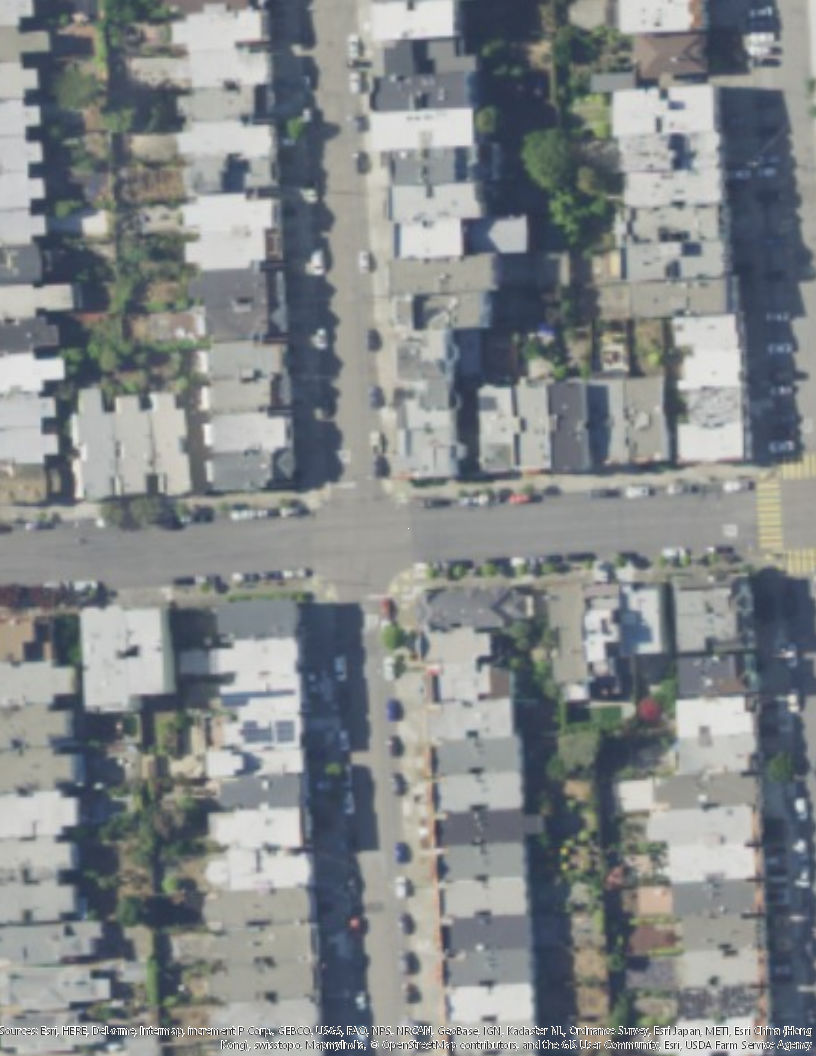zebracross: (754, 474, 784, 545), (781, 453, 816, 482), (783, 546, 816, 573)
